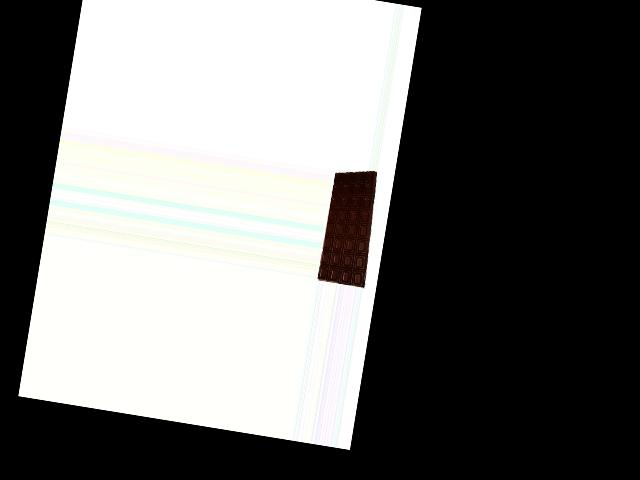chocolate: (317, 163, 381, 288)
